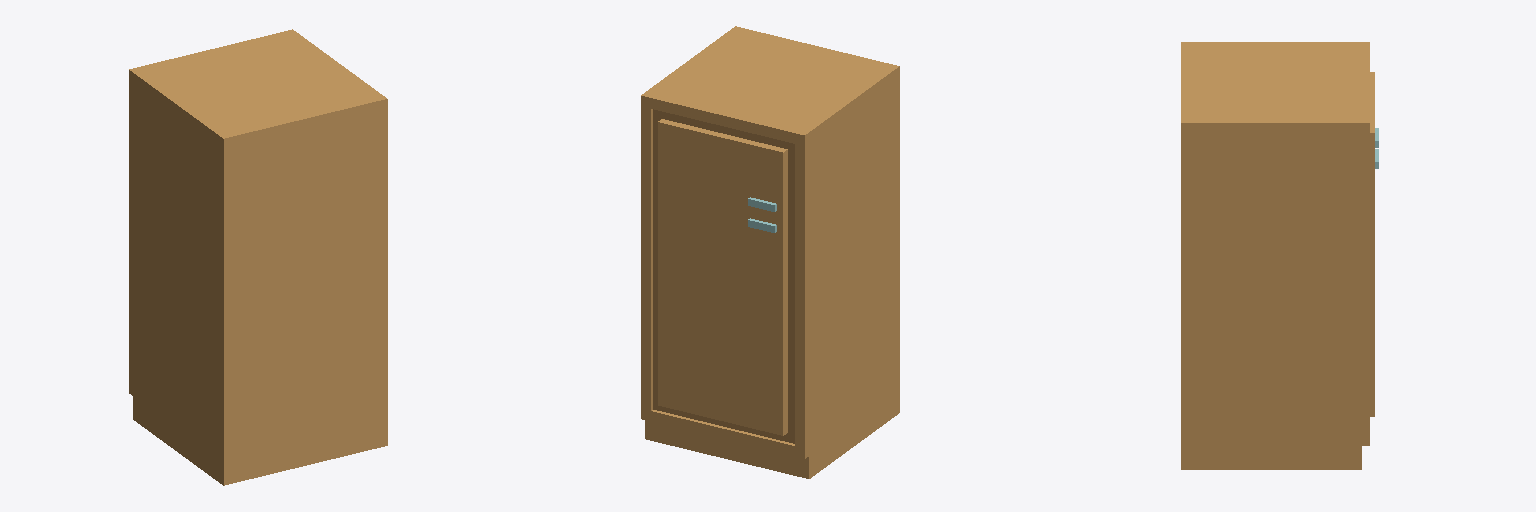
The model's file is kitchenFridgeBuiltIn.obj.
3 views of the same model, side by side, from view 1: azimuth 30°, elevation 25°; view 2: azimuth 150°, elevation 25°; view 3: azimuth 270°, elevation 25° (orthographic).
Visible parts, largest first — view 1: kitchenFridgeBuiltIn; view 2: kitchenFridgeBuiltIn, doorFridge 1, doorFreezer 1; view 3: kitchenFridgeBuiltIn, doorFridge 1, doorFreezer 1.
Part boxes in pixels (x1,y1,x2,y2): kitchenFridgeBuiltIn: (129, 29, 387, 485); kitchenFridgeBuiltIn: (641, 26, 899, 478); doorFridge 1: (658, 189, 787, 435); doorFreezer 1: (658, 119, 787, 218); kitchenFridgeBuiltIn: (1181, 42, 1369, 469); doorFridge 1: (1370, 149, 1378, 416); doorFreezer 1: (1370, 72, 1378, 199).
Size of the model in its own units: 4.3 by 8.69 by 4.5.